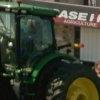Tractor: (11, 1, 100, 100)
